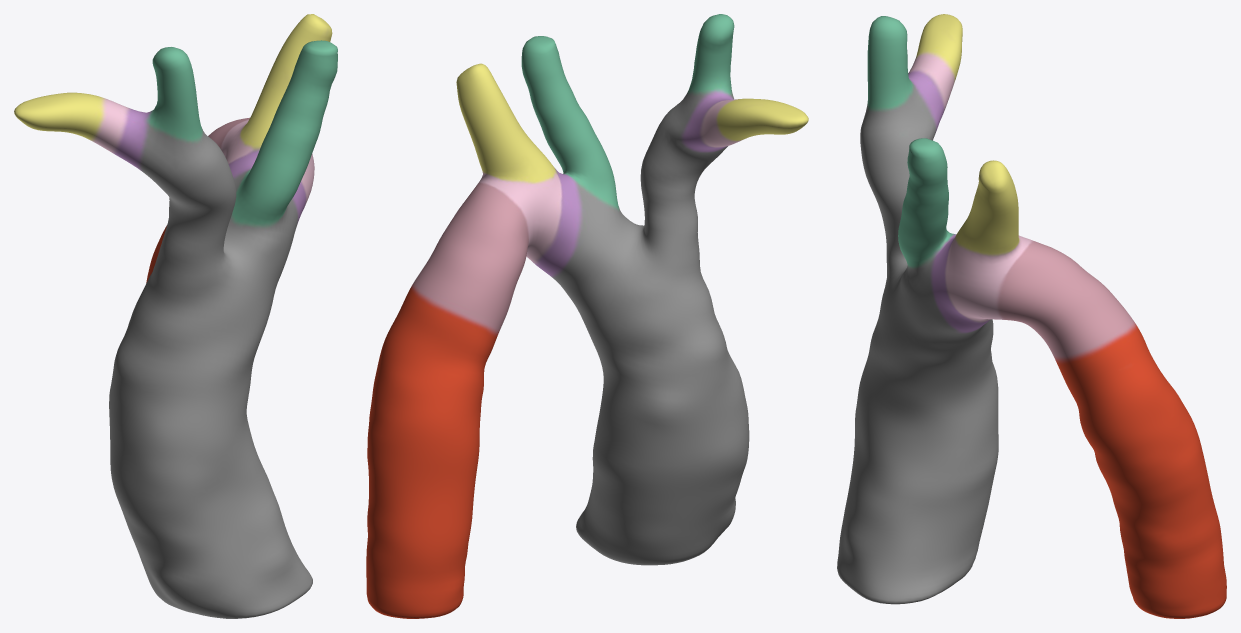
Rendered from normal_aortic_arch.glb.
3 renders of one model, left to right at view 1: azimuth 30°, elevation 25°; view 2: azimuth 150°, elevation 25°; view 3: azimuth 270°, elevation 25°, orthographic. The views are drawn at different scales.
Visible parts, largest first — view 1: Retopo_8007231.Labels Ao.002_1; view 2: Retopo_8007231.Labels Ao.002_1; view 3: Retopo_8007231.Labels Ao.002_1.
Boxes of the visible parts, x1,y1,x2,y2 form: Retopo_8007231.Labels Ao.002_1: (14,14,337,618); Retopo_8007231.Labels Ao.002_1: (366,14,808,618); Retopo_8007231.Labels Ao.002_1: (837,14,1226,618).
Size of the model in its own units: 0.5905 by 0.899 by 0.6048.
Materials: 1 (1 with a texture image).
